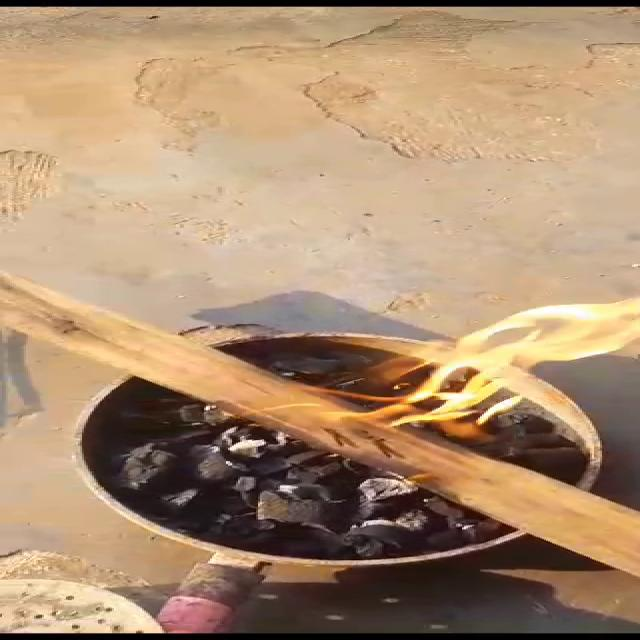Fire: (247, 257, 640, 481)
